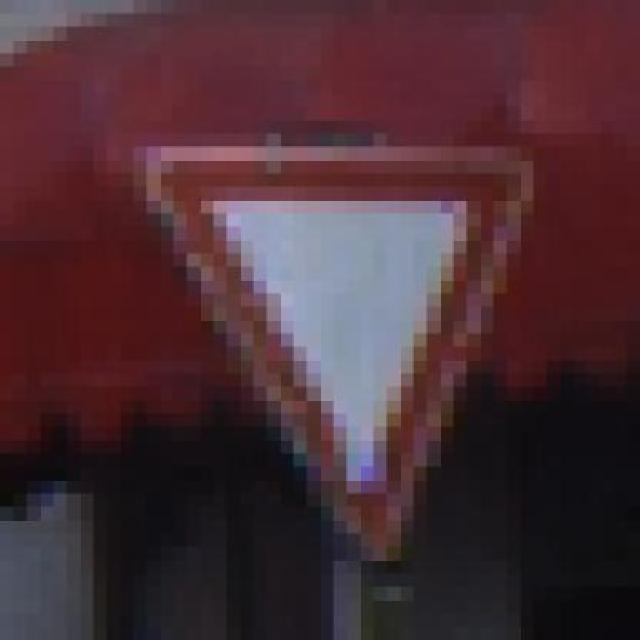Give Way: (118, 119, 598, 598)
